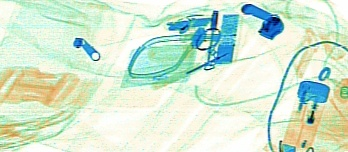lighter: (281, 80, 329, 151)
